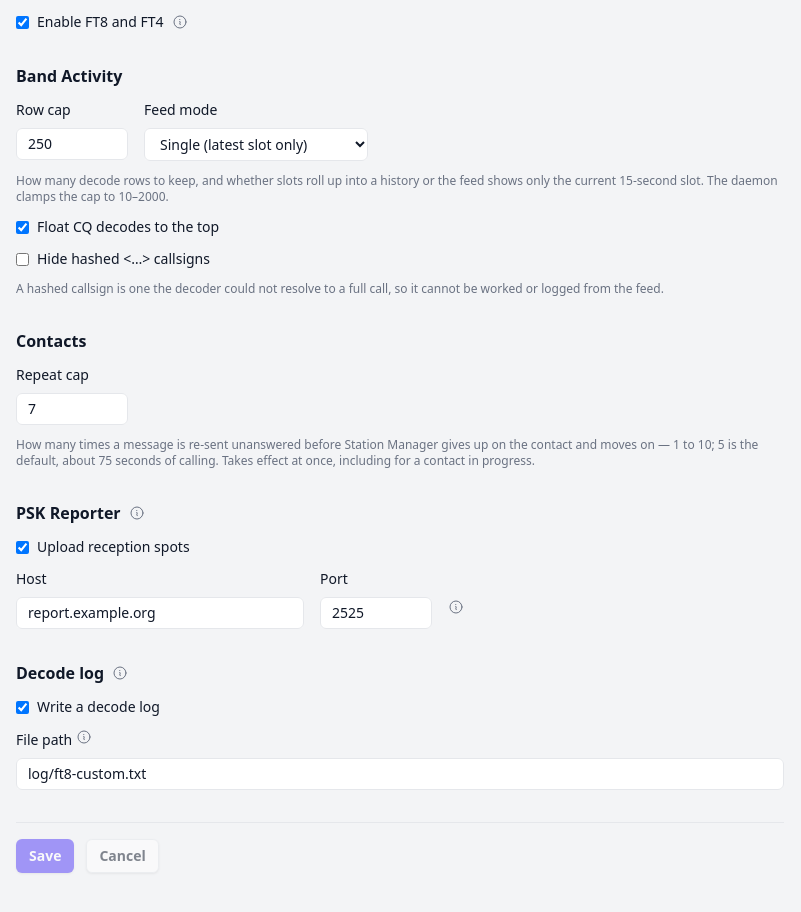
Test: Ft8Section › U6: an out-of-range repeat cap disables Save and says why, in place
The width and height of the screenshot is (801, 912).
Replace the text in the field labelled "Repeat cap" with "11". click: point(72, 409)
box: [16,393,128,425]
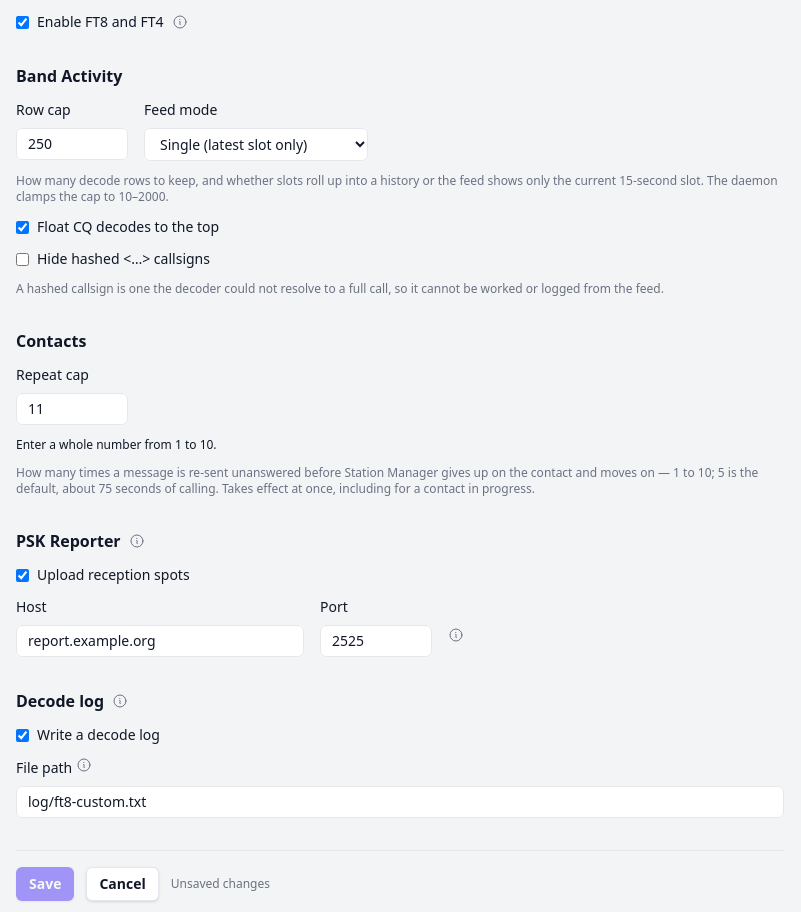
expect the button "Save" is disabled: met, box [16,867,74,901]
expect the text "Enter a whole number from 1 to 10." is shown: met, box [16,436,217,453]
Replace the text in the field labelled "Repeat cap" with "10". click: point(72, 409)
box: [16,393,128,425]
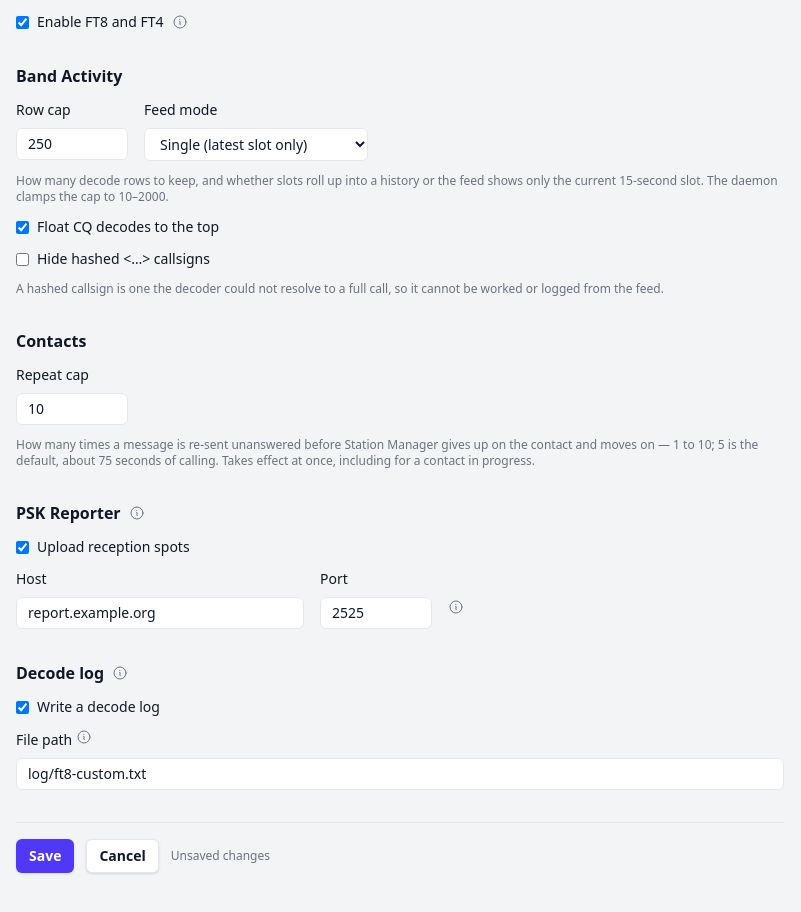
expect the button "Save" is enabled: met, box [16,839,74,873]
expect the text "Enter a whole number from 1 to 10" is gone: met
